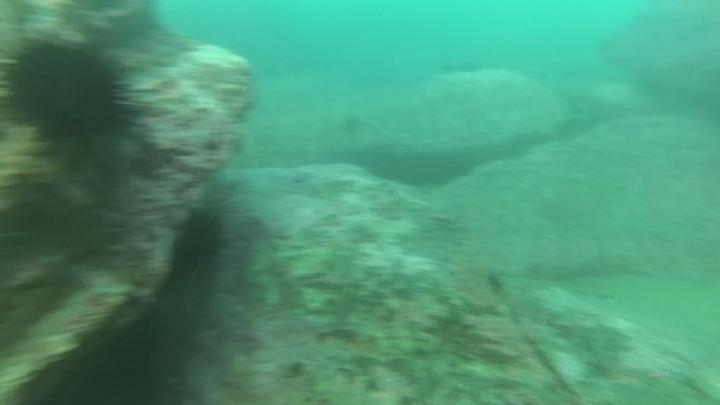echinus: (7, 32, 127, 152)
